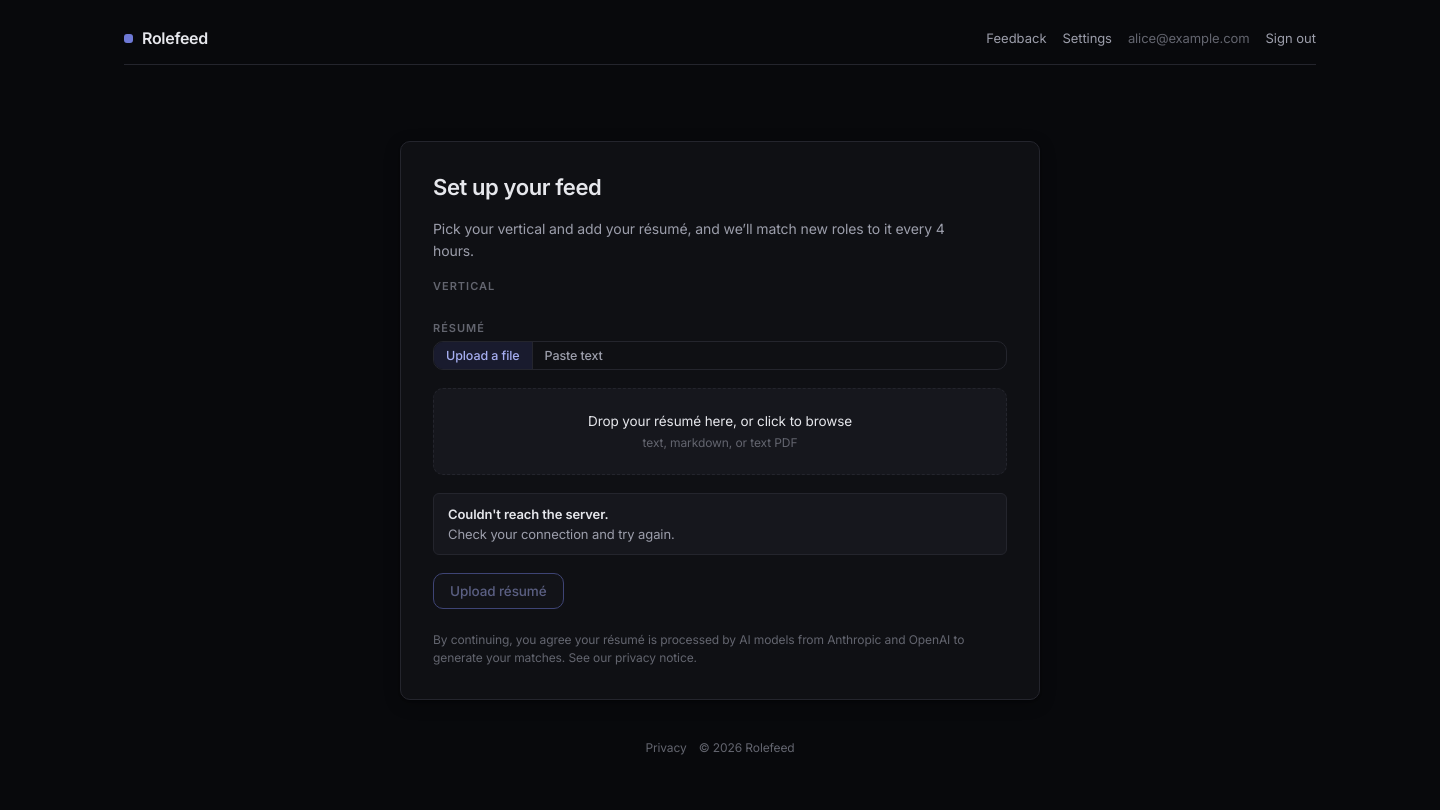
Test: App routing + guards › closes the feedback dialog again
Click the button "Feedback". click: {"x": 1016, "y": 38}
box: [986, 30, 1046, 46]
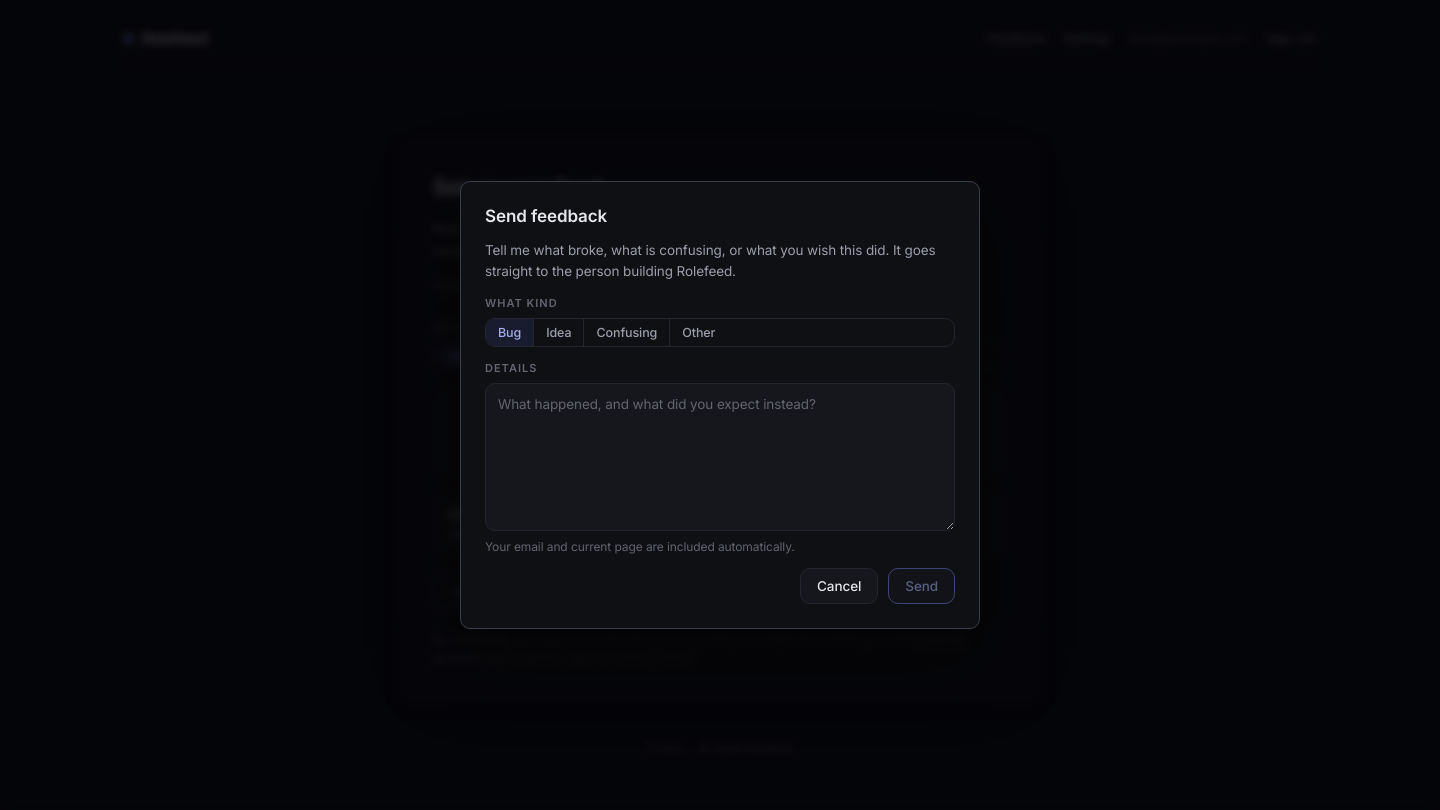
Click the button "Cancel". click: {"x": 839, "y": 586}
box: [800, 568, 878, 604]
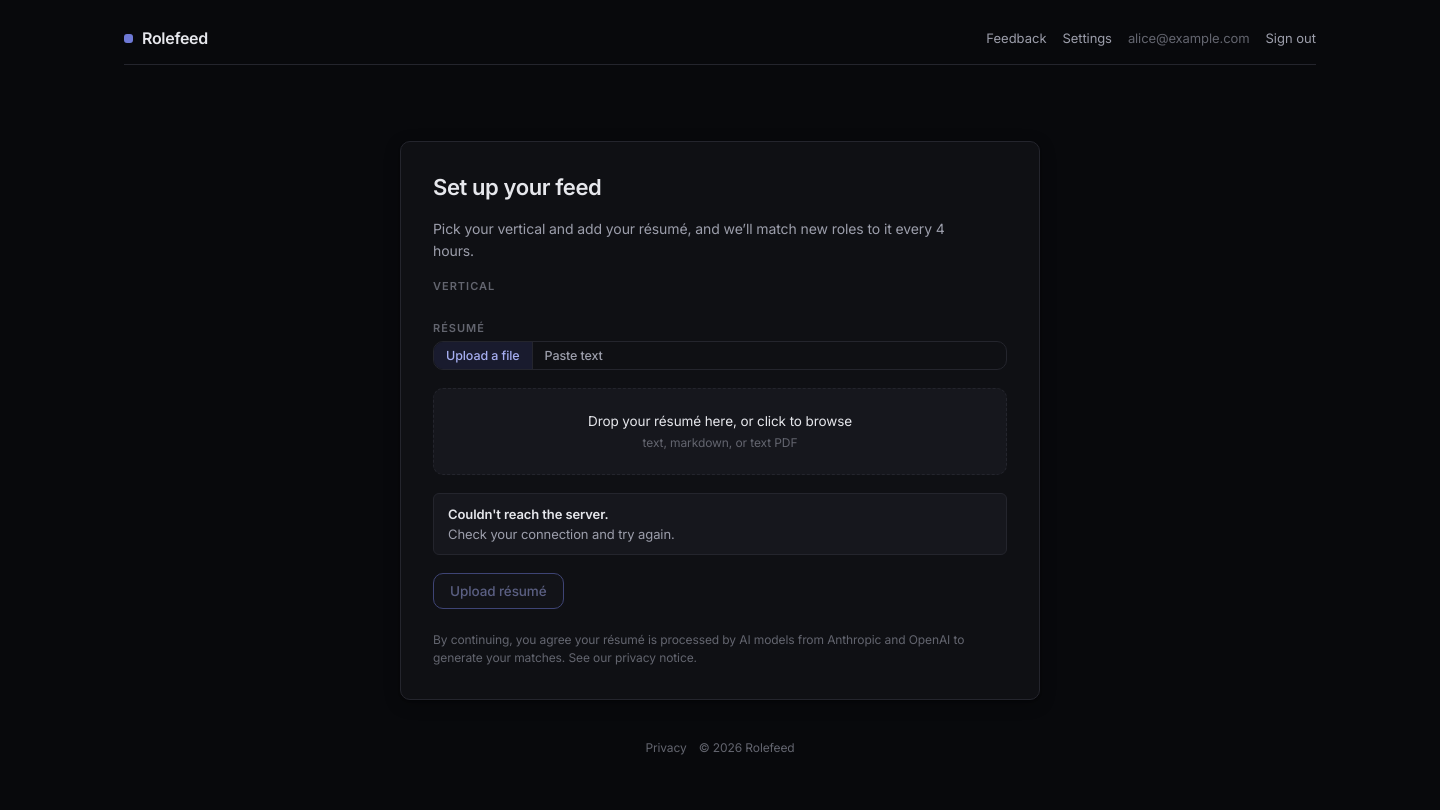
expect the dialog is gone: met
